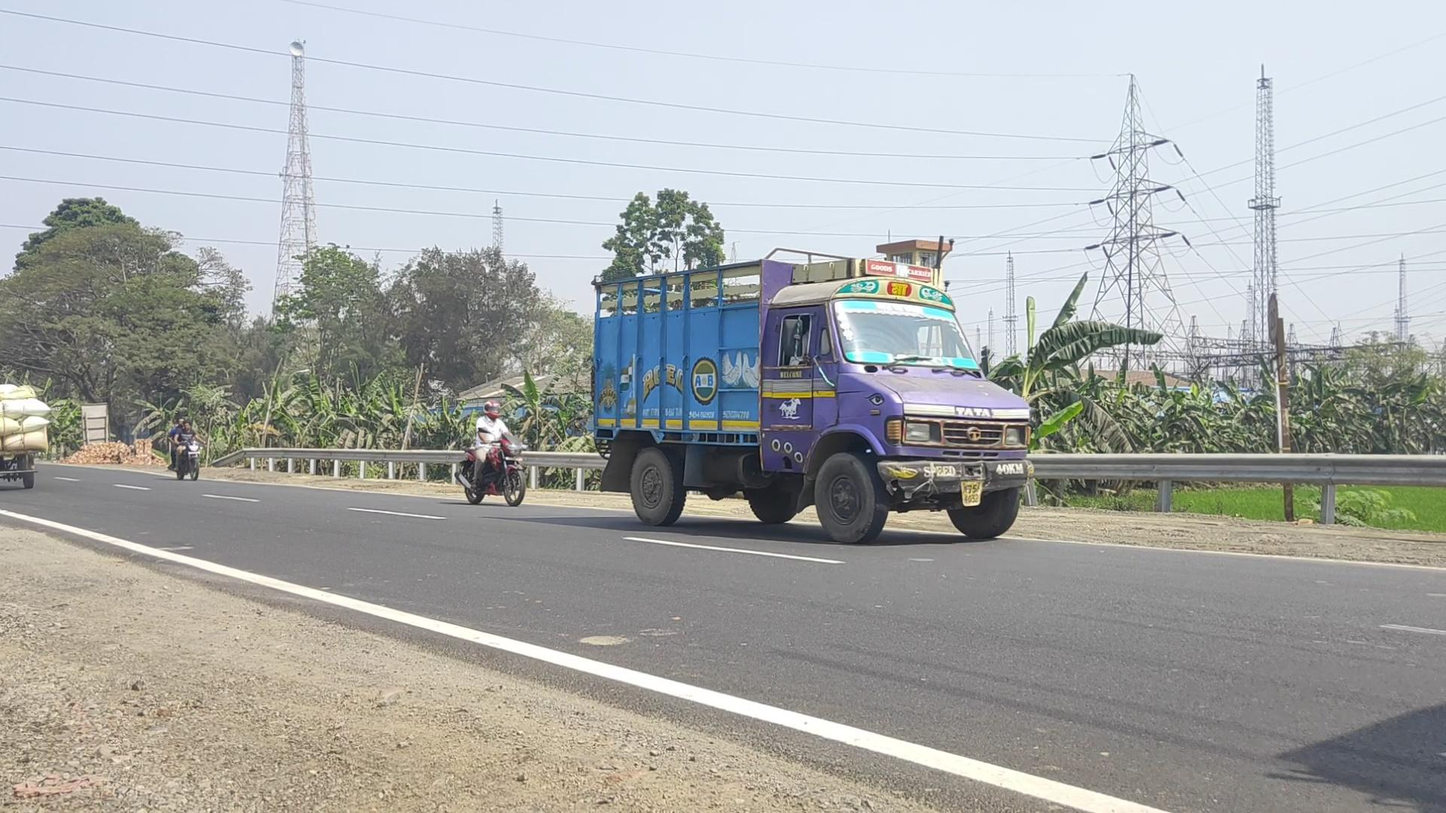bike: (454, 400, 526, 507), (166, 418, 206, 480)
truck: (591, 248, 1034, 545)
